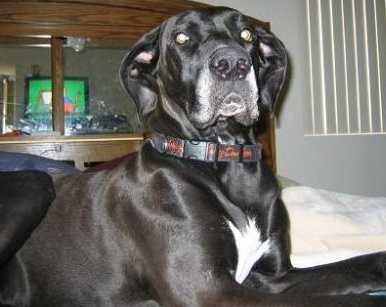Dog: (120, 7, 288, 138)
